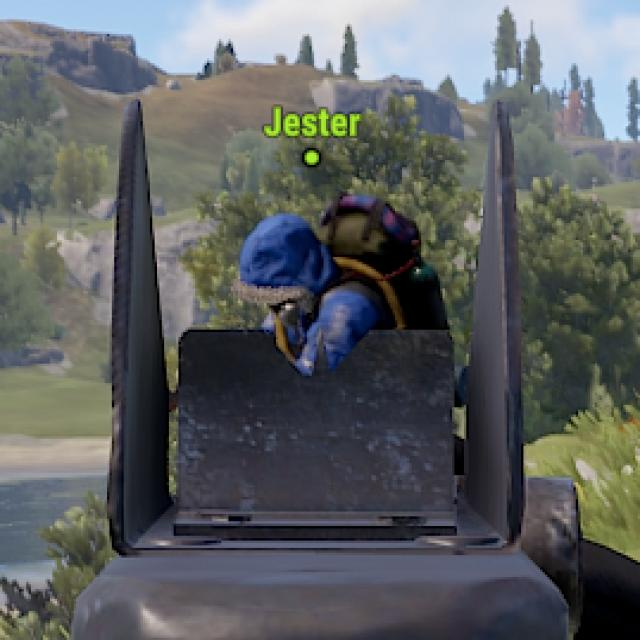Player: (239, 192, 446, 327)
